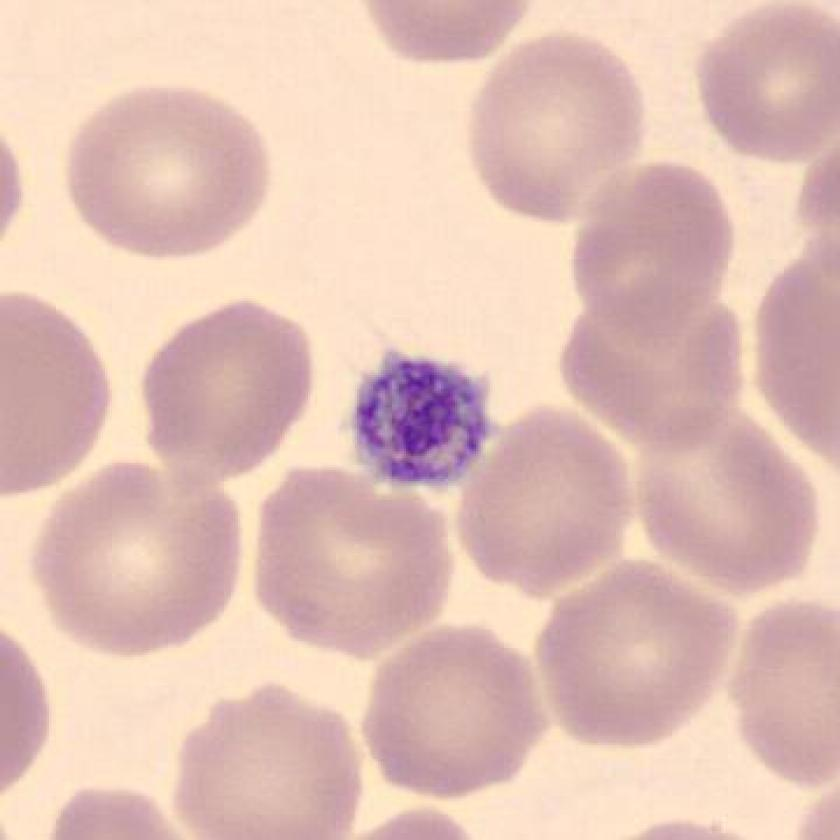platelets: (335, 337, 510, 503)
